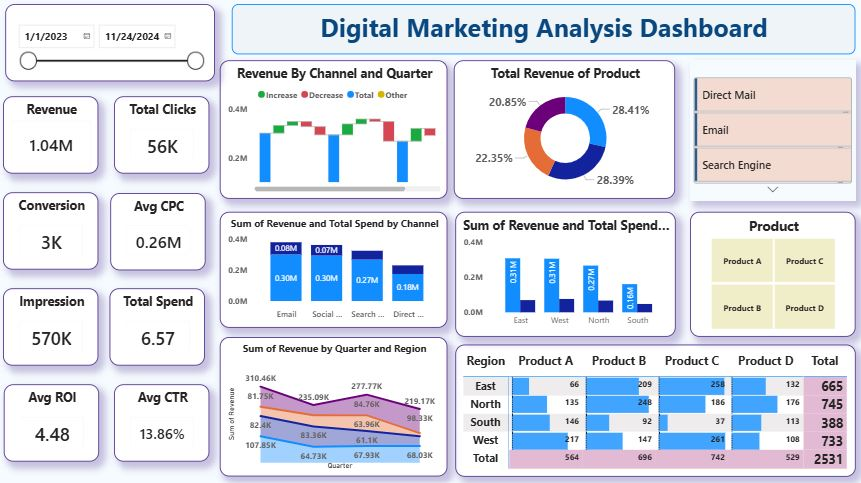

The dashboard page shown, as its layout file describes it:
{"tool":"powerbi","page":{"name":"Market Funnel","canvas":[1280,720],"ordinal":0},"visuals":[{"type":"textbox","box":[347,8.6,923,73.4],"z":0},{"type":"cardVisual","title":"Revenue","fields":{"Data":["Sum(Sheet1.Revenue)"]},"box":[10,138.3,141.7,115],"z":1000},{"type":"cardVisual","title":"Total Clicks","fields":{"Data":["Sum(Sheet1.Clicks)"]},"box":[173.3,138.3,141.7,115],"z":2000},{"type":"cardVisual","title":"Conversion","fields":{"Data":["Sum(Sheet1.Conversions)"]},"box":[11.7,265,141,115],"z":3000},{"type":"cardVisual","title":"Avg CPC","fields":{"Data":["Sum(Sheet1.Spend)"]},"box":[173.3,276.7,141.7,115],"z":4000},{"type":"cardVisual","title":"Impression","fields":{"Data":["Sum(Sheet1.Impressions)"]},"box":[11.7,411.7,141,115],"z":5000},{"type":"cardVisual","title":"Total Spend","fields":{"Data":["Avg(Sheet1.CPC)"]},"box":[173.3,411.7,141.7,115],"z":6000},{"type":"cardVisual","title":"Avg ROI","fields":{"Data":["Avg(Sheet1.ROI)"]},"box":[11.5,561.6,141.1,145.4],"z":7000},{"type":"cardVisual","title":"Avg CTR","fields":{"Data":["Avg(Sheet1.CTR)"]},"box":[178.6,563,142.6,145.4],"z":8000},{"type":"waterfallChart","title":"Revenue By Channel and Quarter","fields":{"Category":["Sheet1.Marketing_Channel"],"Breakdown":["Sheet1.Quarter"],"Y":["Sum(Sheet1.Revenue)"]},"box":[329.8,92.2,328.3,205.9],"z":9000},{"type":"pivotTable","fields":{"Values":["Sum(Sheet1.Conversions)"],"Rows":["Sheet1.Region"],"Columns":["Sheet1.Product"]},"box":[678.2,512.6,591.8,195.8],"z":10000},{"type":"donutChart","title":"Total Revenue of Product","fields":{"Category":["Sheet1.Product"],"Y":["Sum(Sheet1.Spend)"]},"box":[676.8,92.2,328.3,205.9],"z":11000},{"type":"columnChart","fields":{"Category":["Sheet1.Marketing_Channel"],"Y":["Sum(Sheet1.Revenue)","Sum(Sheet1.Spend)"]},"box":[330,316.7,328.3,171.7],"z":12000},{"type":"stackedAreaChart","fields":{"Category":["Sheet1.Date.Variation.Date Hierarchy.Quarter"],"Y":["Sum(Sheet1.Revenue)"],"Series":["Sheet1.Region"]},"box":[330,501.7,328.3,206.7],"z":13000},{"type":"clusteredColumnChart","fields":{"Y":["Sum(Sheet1.Revenue)","Sum(Sheet1.Spend)"],"Category":["Sheet1.Region"]},"box":[678.3,316.7,326.7,185],"z":14000},{"type":"slicer","title":"Product","fields":{"Values":["Sheet1.Product"]},"box":[1026.7,316.8,243.4,184.3],"z":15000},{"type":"cardVisual","fields":{"Data":["Sum(Sheet1.Conversions)"],"Rows":["Sheet1.Marketing_Channel"]},"box":[1026.7,92.2,243.4,207.4],"z":16000},{"type":"slicer","title":"Date","fields":{"Values":["Sheet1.Date"]},"box":[11.7,8.3,310,114],"z":17000}]}

Visuals, with their boxes in screenshot pixels (x1, y1, x2, y2), scaled from the page's 1280x720 canvas onto the 861x483 screenshot:
textbox: 233:6:854:55
"Revenue" cardVisual: 7:93:102:170
"Total Clicks" cardVisual: 117:93:212:170
"Conversion" cardVisual: 8:178:103:255
"Avg CPC" cardVisual: 117:186:212:263
"Impression" cardVisual: 8:276:103:353
"Total Spend" cardVisual: 117:276:212:353
"Avg ROI" cardVisual: 8:377:103:474
"Avg CTR" cardVisual: 120:378:216:475
"Revenue By Channel and Quarter" waterfallChart: 222:62:443:200
pivotTable - Sum(Sheet1.Conversions) x Sheet1.Region: 456:344:854:475
"Total Revenue of Product" donutChart: 455:62:676:200
columnChart - Sheet1.Marketing_Channel x Sum(Sheet1.Revenue): 222:212:443:328
stackedAreaChart - Sheet1.Date.Variation.Date Hierarchy.Quarter x Sum(Sheet1.Revenue): 222:337:443:475
clusteredColumnChart - Sum(Sheet1.Revenue) x Sum(Sheet1.Spend): 456:212:676:337
"Product" slicer: 691:213:854:336
cardVisual - Sum(Sheet1.Conversions) x Sheet1.Marketing_Channel: 691:62:854:201
"Date" slicer: 8:6:216:82
